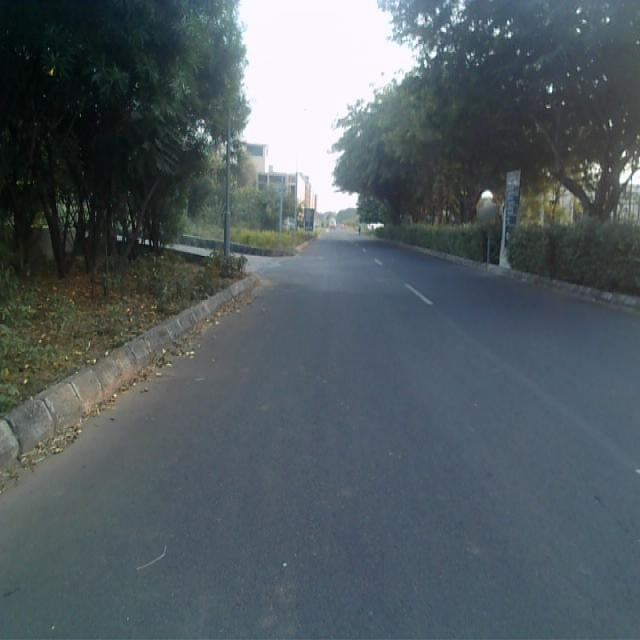lane: (0, 231, 640, 640)
